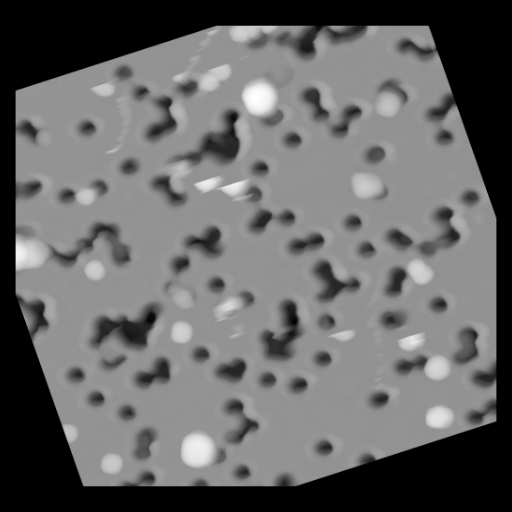Hole: (274, 0, 398, 67), (67, 287, 168, 366), (291, 244, 362, 309), (248, 292, 312, 362), (186, 106, 254, 169), (217, 459, 306, 507), (208, 381, 268, 450), (414, 83, 468, 152), (410, 194, 469, 257), (177, 216, 239, 271), (0, 104, 57, 162), (135, 89, 189, 148), (46, 222, 114, 268), (383, 19, 439, 74), (122, 350, 180, 399), (242, 194, 303, 240), (460, 347, 511, 400), (14, 282, 58, 342), (93, 210, 137, 269), (0, 170, 54, 214), (441, 320, 488, 368), (293, 73, 334, 128), (121, 418, 168, 465), (279, 221, 334, 261), (320, 99, 368, 141), (204, 351, 253, 391), (459, 392, 511, 427), (369, 256, 411, 299), (115, 467, 164, 499), (378, 218, 418, 255), (66, 106, 102, 145), (392, 348, 430, 379), (354, 136, 393, 166), (135, 487, 182, 511), (304, 429, 337, 462), (336, 204, 369, 236), (187, 340, 221, 371), (278, 122, 311, 153), (376, 302, 408, 333), (106, 54, 137, 86), (454, 178, 484, 211), (181, 471, 214, 501), (344, 442, 383, 467), (163, 248, 195, 277), (424, 286, 455, 315), (54, 358, 87, 385), (113, 155, 147, 181), (247, 153, 276, 183), (309, 305, 338, 334), (308, 342, 338, 370), (283, 371, 315, 397), (250, 365, 280, 392), (124, 78, 157, 102), (0, 101, 9, 188), (108, 396, 138, 422), (200, 270, 230, 295), (143, 169, 170, 196), (352, 234, 378, 262), (77, 381, 102, 407), (366, 388, 393, 412), (229, 461, 255, 485), (54, 180, 75, 207), (92, 175, 115, 196)
Particle: (169, 421, 226, 478), (230, 67, 286, 124), (0, 222, 55, 277), (222, 7, 282, 50), (337, 160, 387, 205), (158, 272, 202, 316), (363, 83, 408, 124), (416, 393, 457, 435), (89, 445, 132, 482), (399, 252, 438, 292), (163, 313, 202, 348), (417, 351, 455, 385), (79, 253, 111, 287), (69, 181, 101, 210), (60, 415, 84, 445), (196, 69, 219, 92)
Smear: (86, 90, 146, 160), (188, 163, 258, 216), (348, 314, 398, 386), (205, 286, 256, 344), (188, 27, 228, 84), (157, 152, 202, 201), (389, 324, 430, 355), (84, 72, 119, 103), (324, 322, 359, 347), (202, 56, 234, 82)
